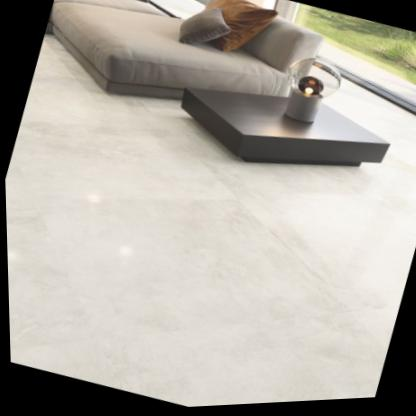Ceramic floor: (4, 34, 416, 409)
